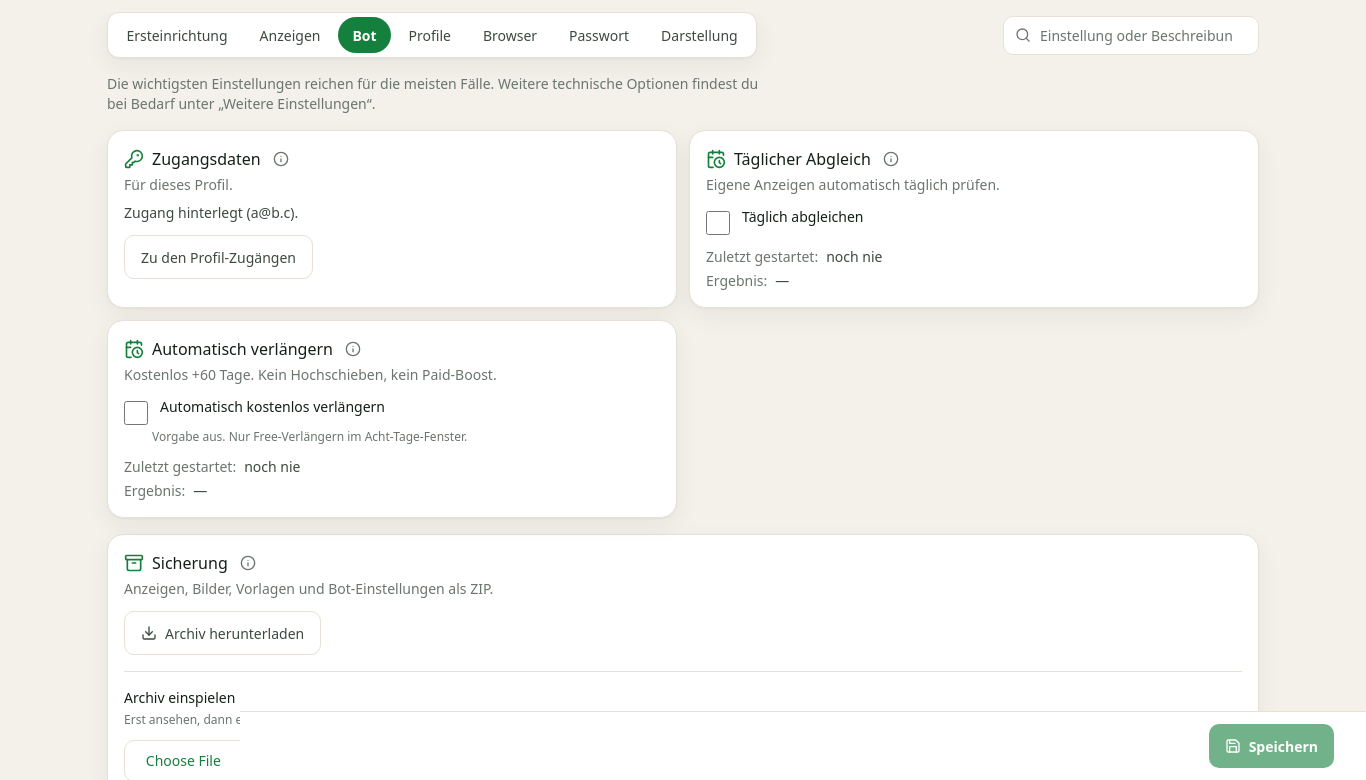
Test: EinstellungenSeite AP-2.47 › setzt den Abgleich zusammen mit den übrigen Änderungen zurück
The width and height of the screenshot is (1366, 780).
Click the checkbox labelled "Täglich abgleichen": click(718, 223) [706,211,730,235]
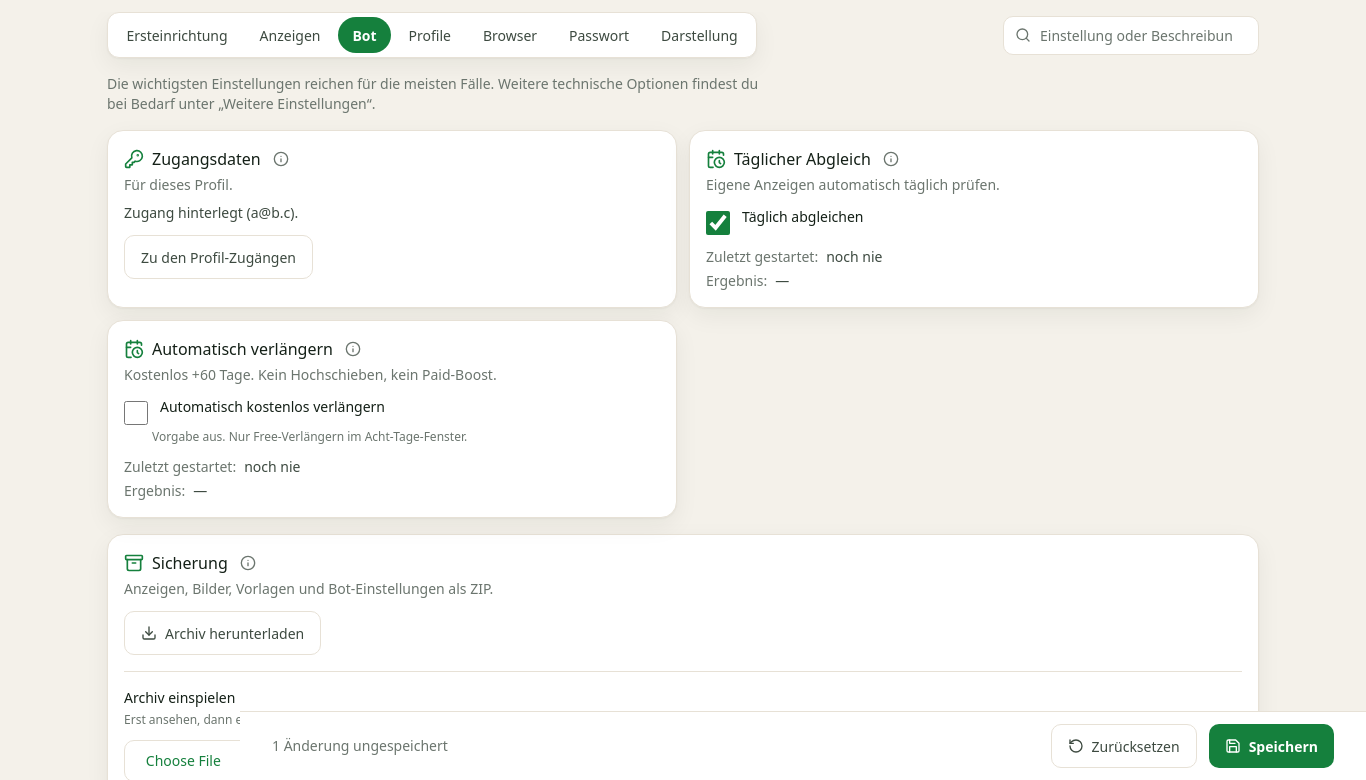
Click the button "Zurücksetzen": click(1124, 746) [1051,724,1197,768]
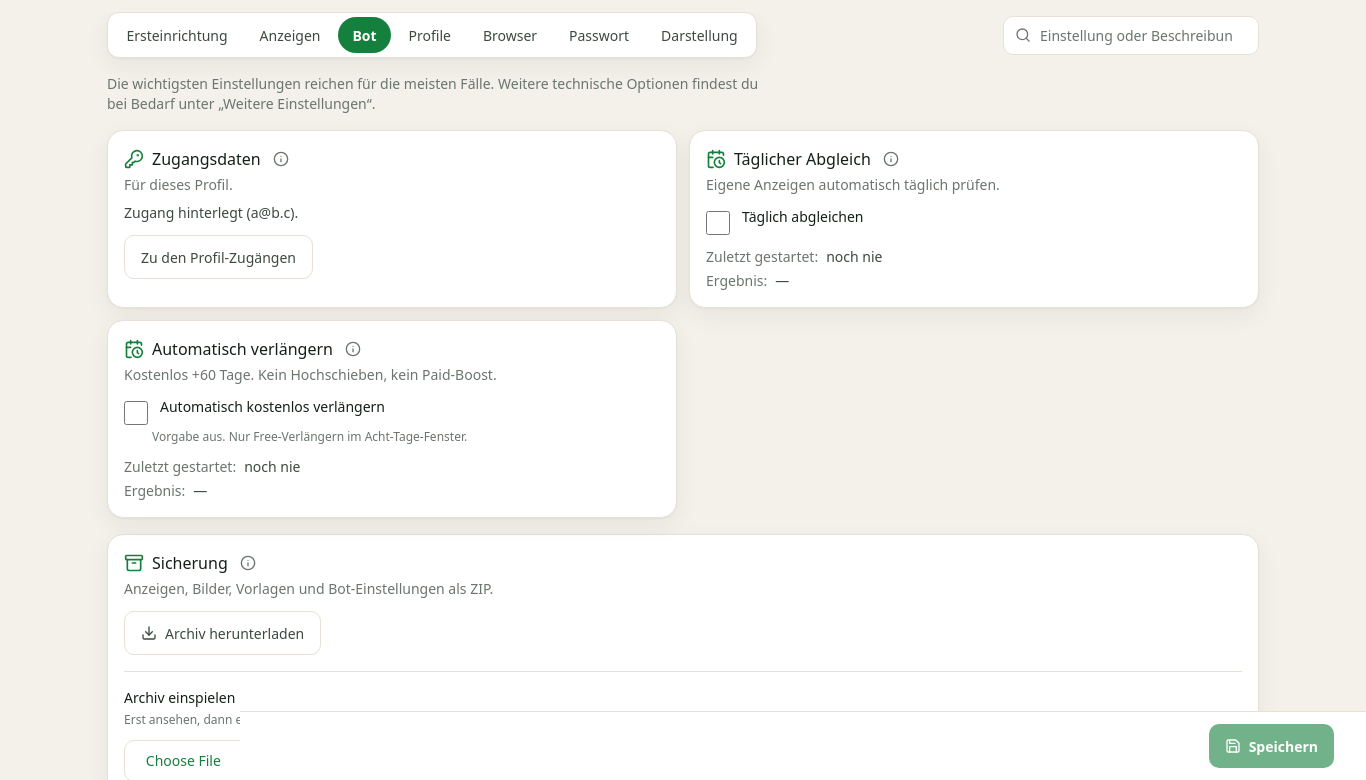
Expected: the checkbox labelled "Täglich abgleichen" is not checked, [706,211,730,235]
Expected: the button "Speichern" is disabled, [1209,724,1334,768]
